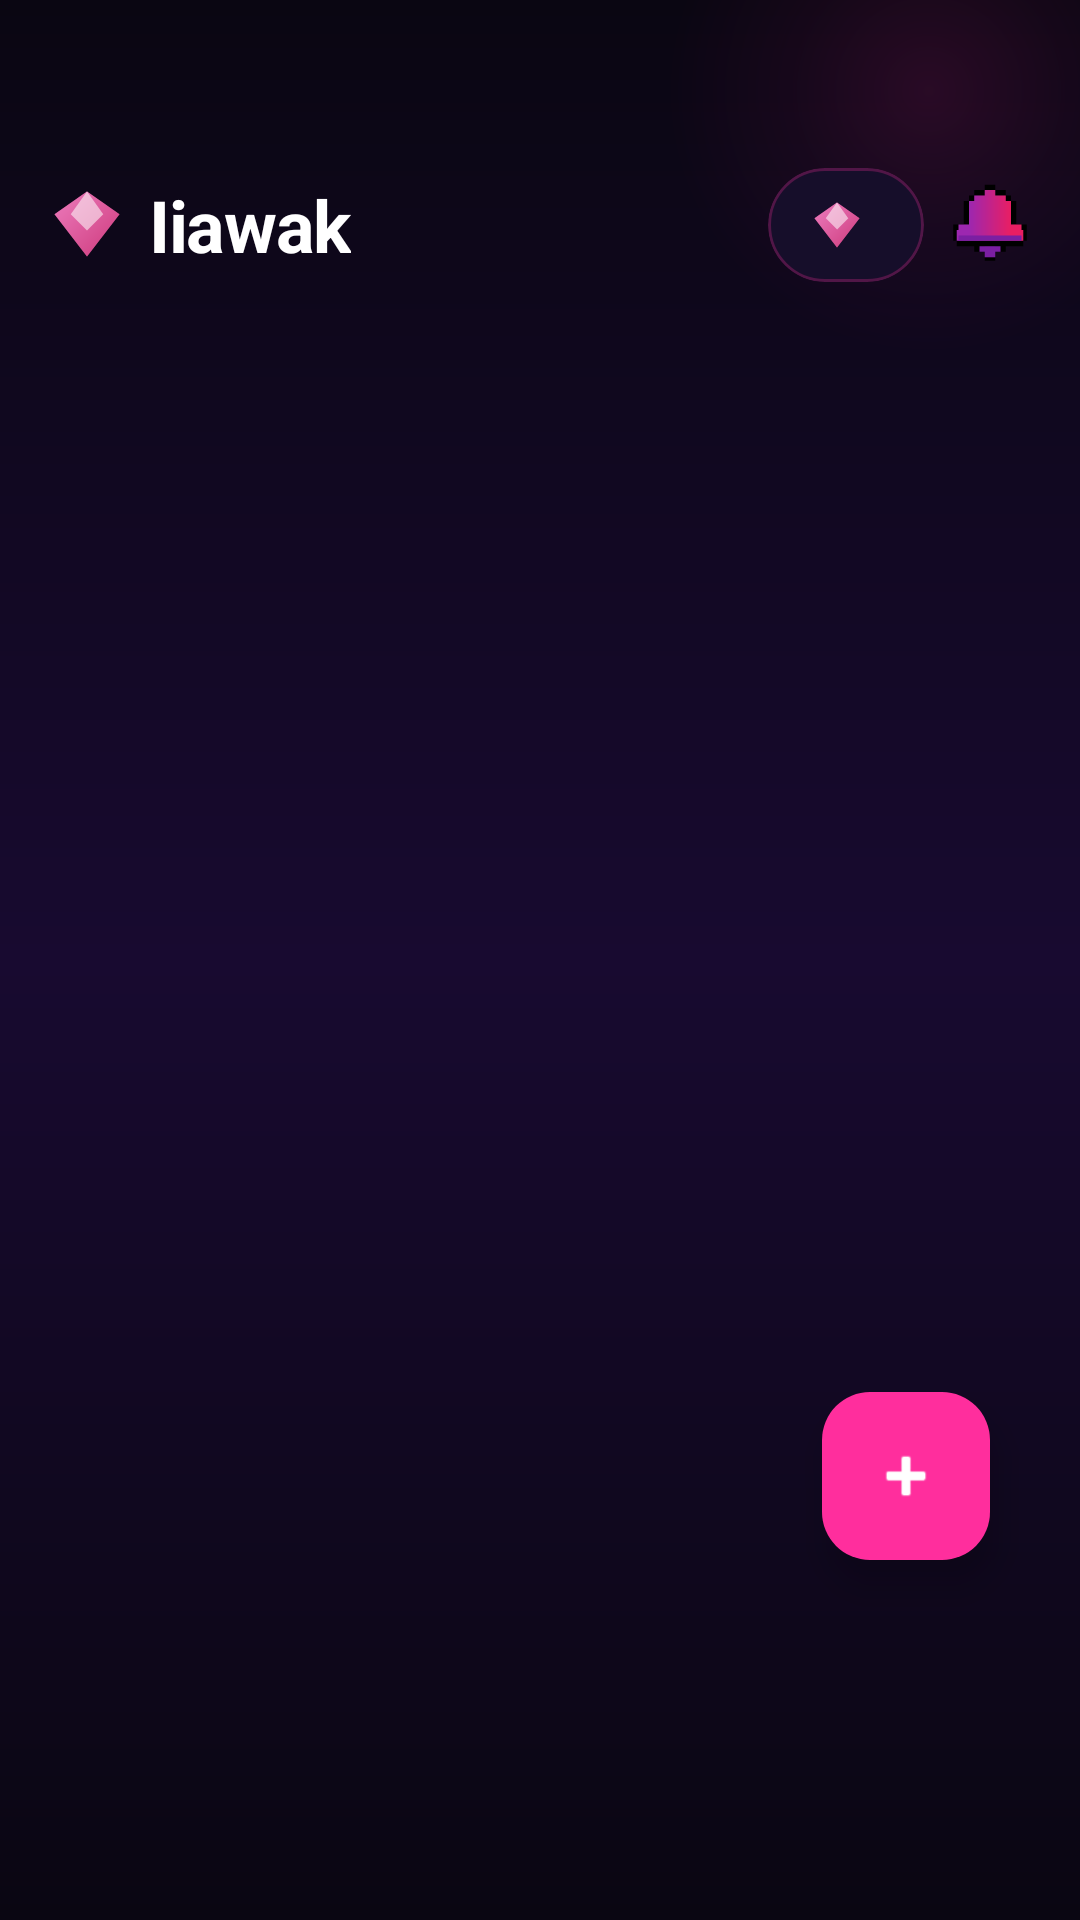

Named icons in this screenshot (1080×1920) and their bounding boxes, (x1, y1, x2, y2):
diamond: (54, 191, 120, 257)
Kim cương: (814, 202, 860, 248)
notification pixel: (954, 185, 1026, 260)
Tạo bài viết: (822, 1392, 990, 1560)
